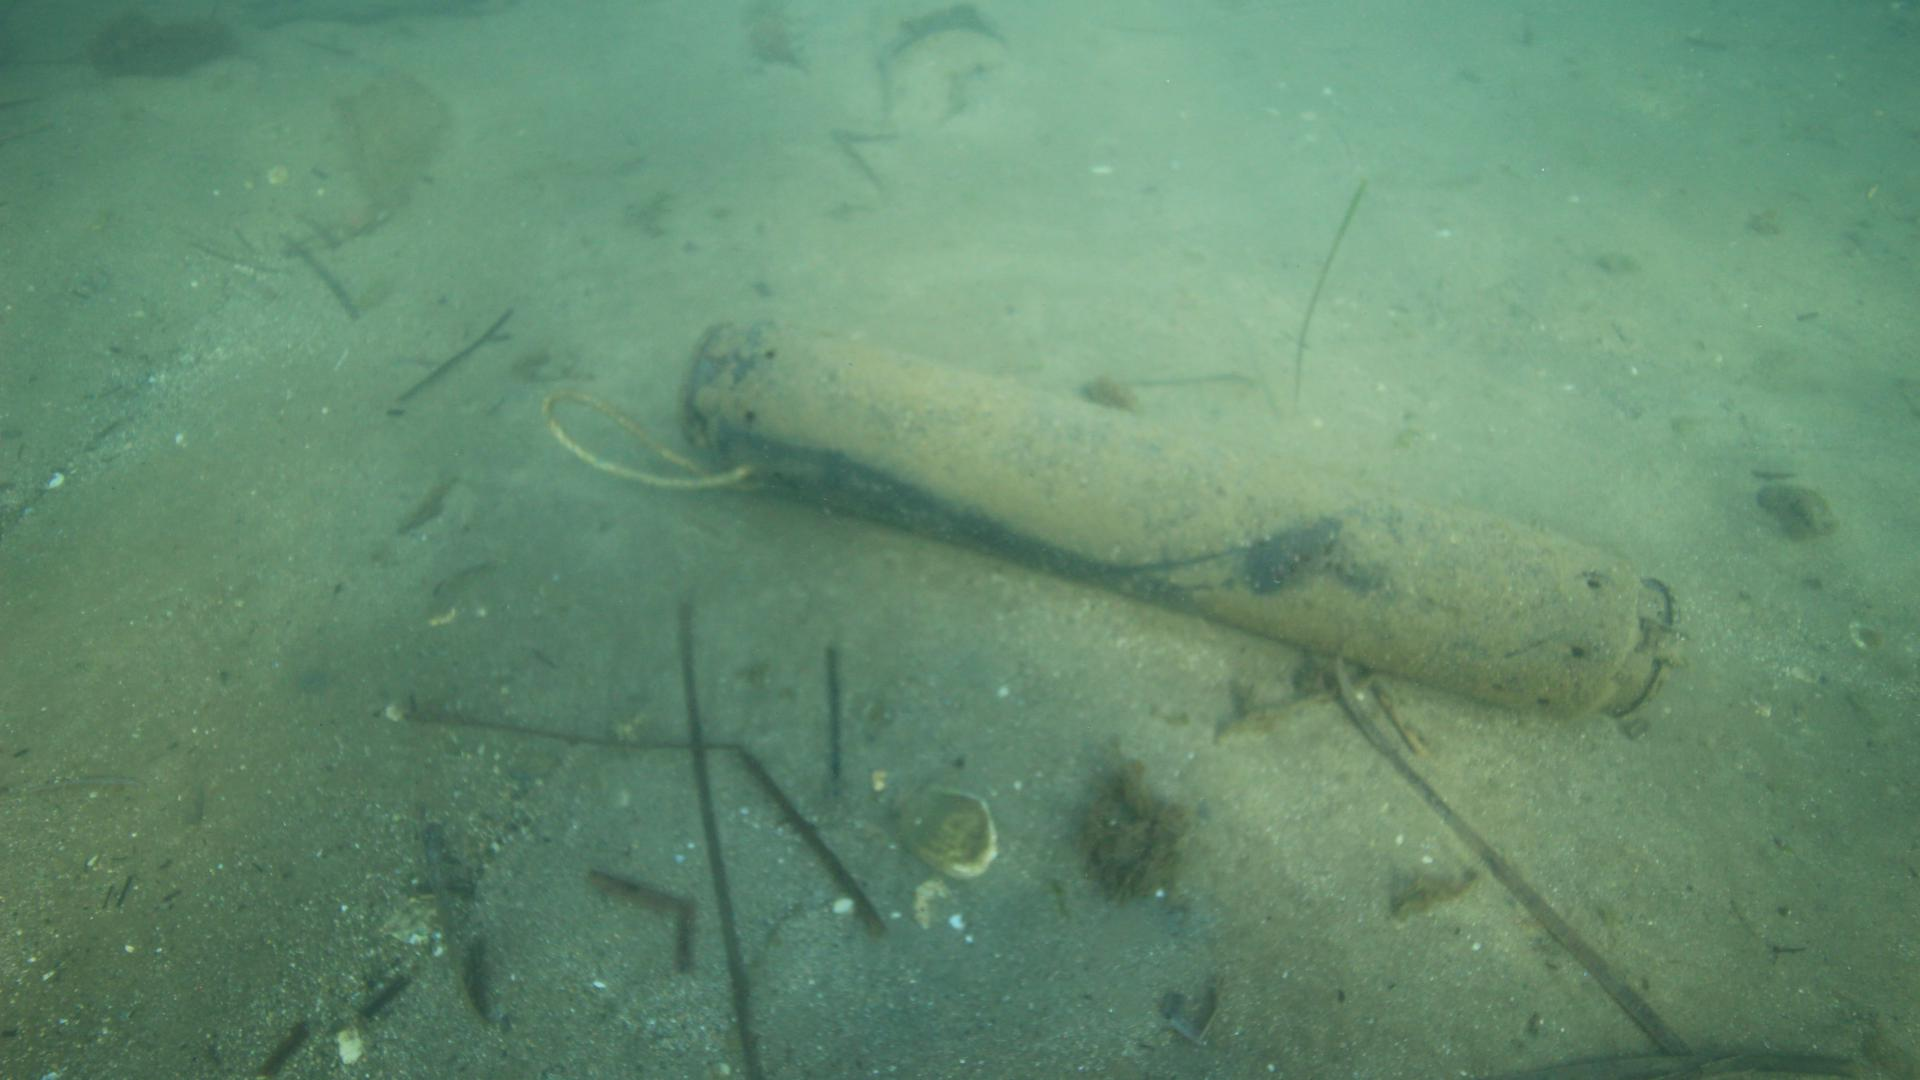bundle of ropes: (537, 386, 781, 488)
eel fish trap: (680, 309, 1691, 727)
